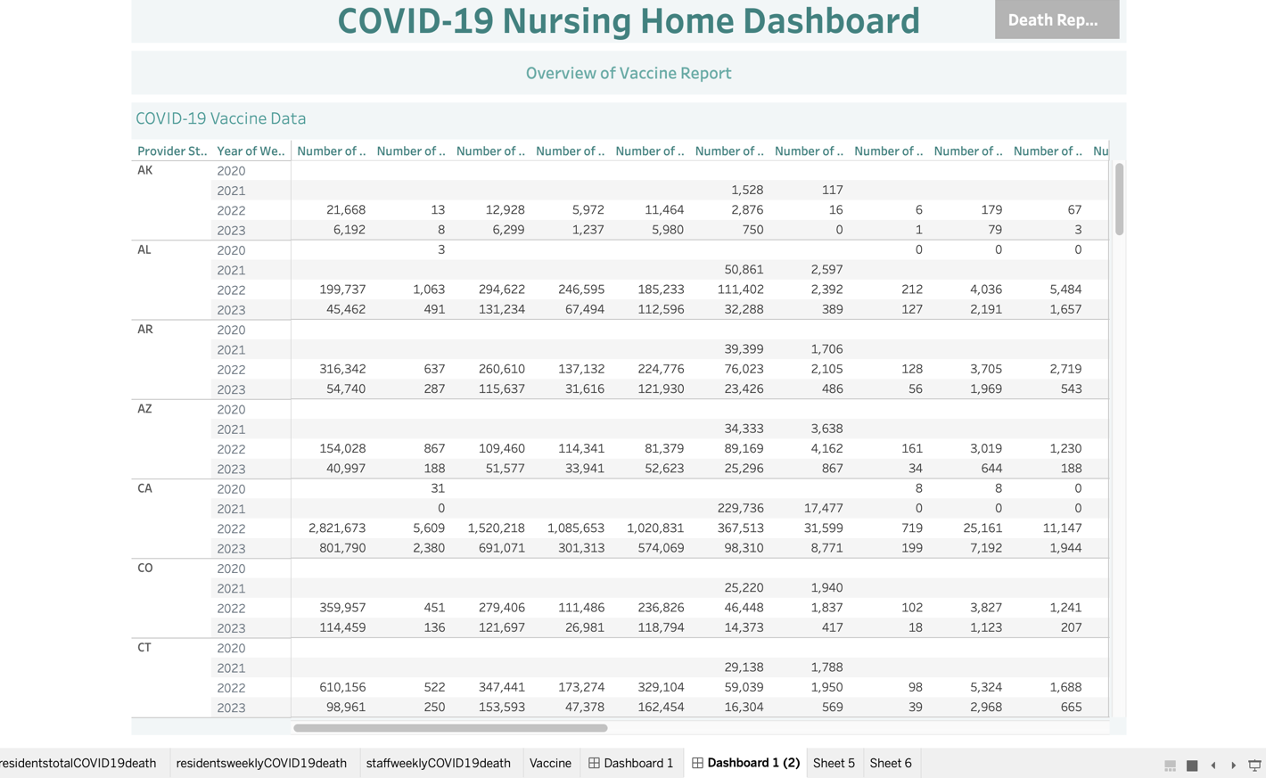

The page's visual inventory and layout, read from the dashboard file:
{"tool":"tableau","page":{"name":"Dashboard 1 (2)","canvas":[1024,768],"ordinal":1},"visuals":[{"type":"text","box":[8,8,1008,56]},{"type":"dashboard-object","box":[880,16,125,40]},{"type":"text","box":[8,64,1008,52]},{"type":"worksheet","title":"Vaccine","mark":"Automatic","rows":["Provider State","Week Ending"],"box":[8,116,1008,644]}]}

Visuals, with their boxes on the page's 1024x768 design canvas (x1, y1, x2, y2). These are canvas units, not pixel positions in the 1268x778 screenshot, which may show the page scaled, cropped or inside an application window:
text: [8,8,1016,64]
dashboard-object: [880,16,1005,56]
text: [8,64,1016,116]
"Vaccine" worksheet: [8,116,1016,760]
